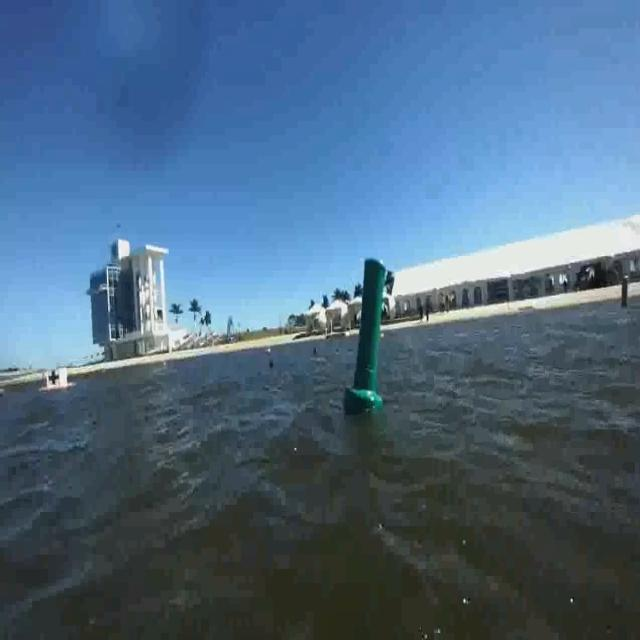green-column-buoy: (347, 254, 387, 414)
